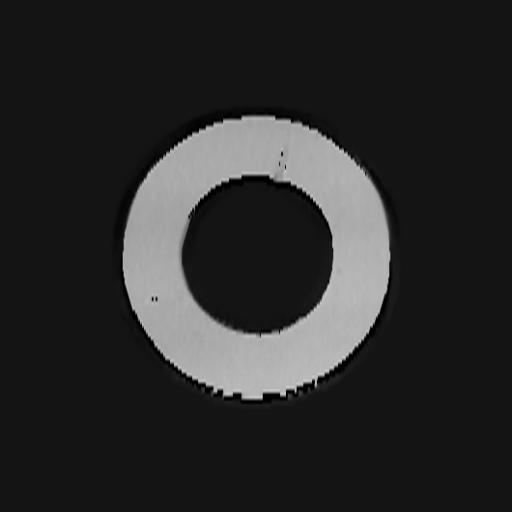defect: (276, 142, 290, 181), (151, 294, 158, 304)
